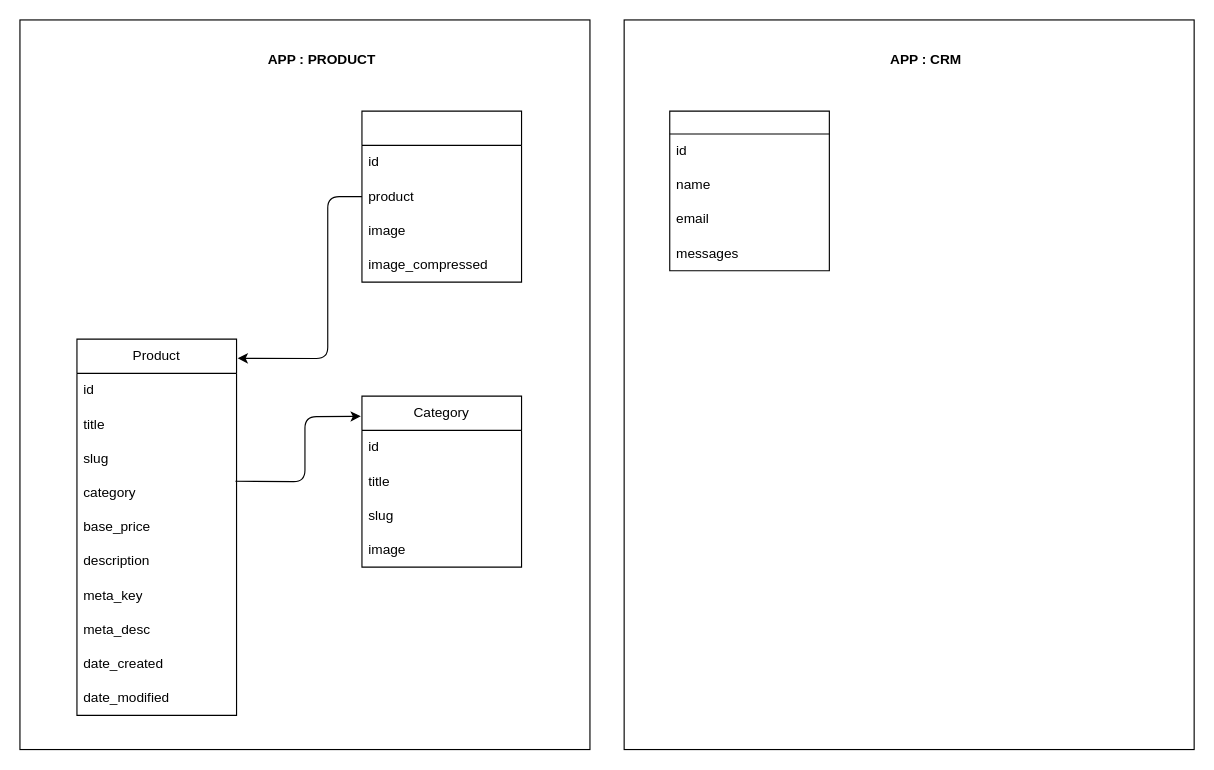
Image size: 1214x770. Some labels were removed from this diagram. The shapes that lost their labels are listed below. From the top down, each one's box as (x1, y1, x2, y2) in pixels, then its label:
(361, 110, 522, 282): product_gallery
(669, 110, 829, 271): user_form
